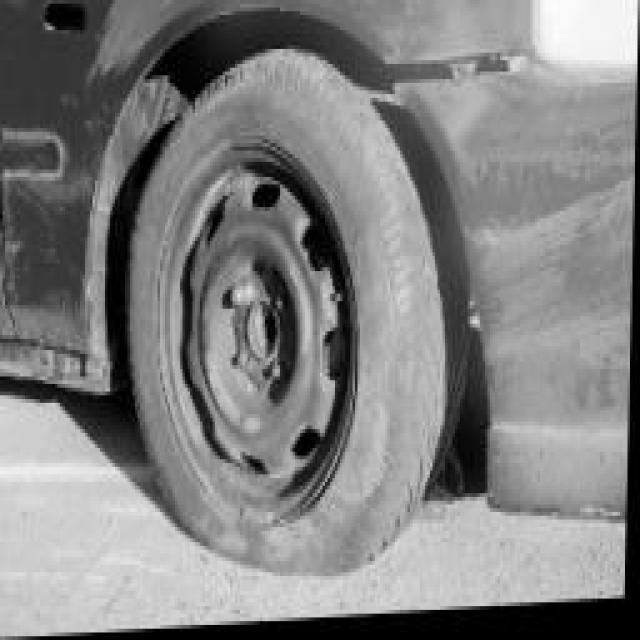Bumper: (389, 66, 638, 530)
